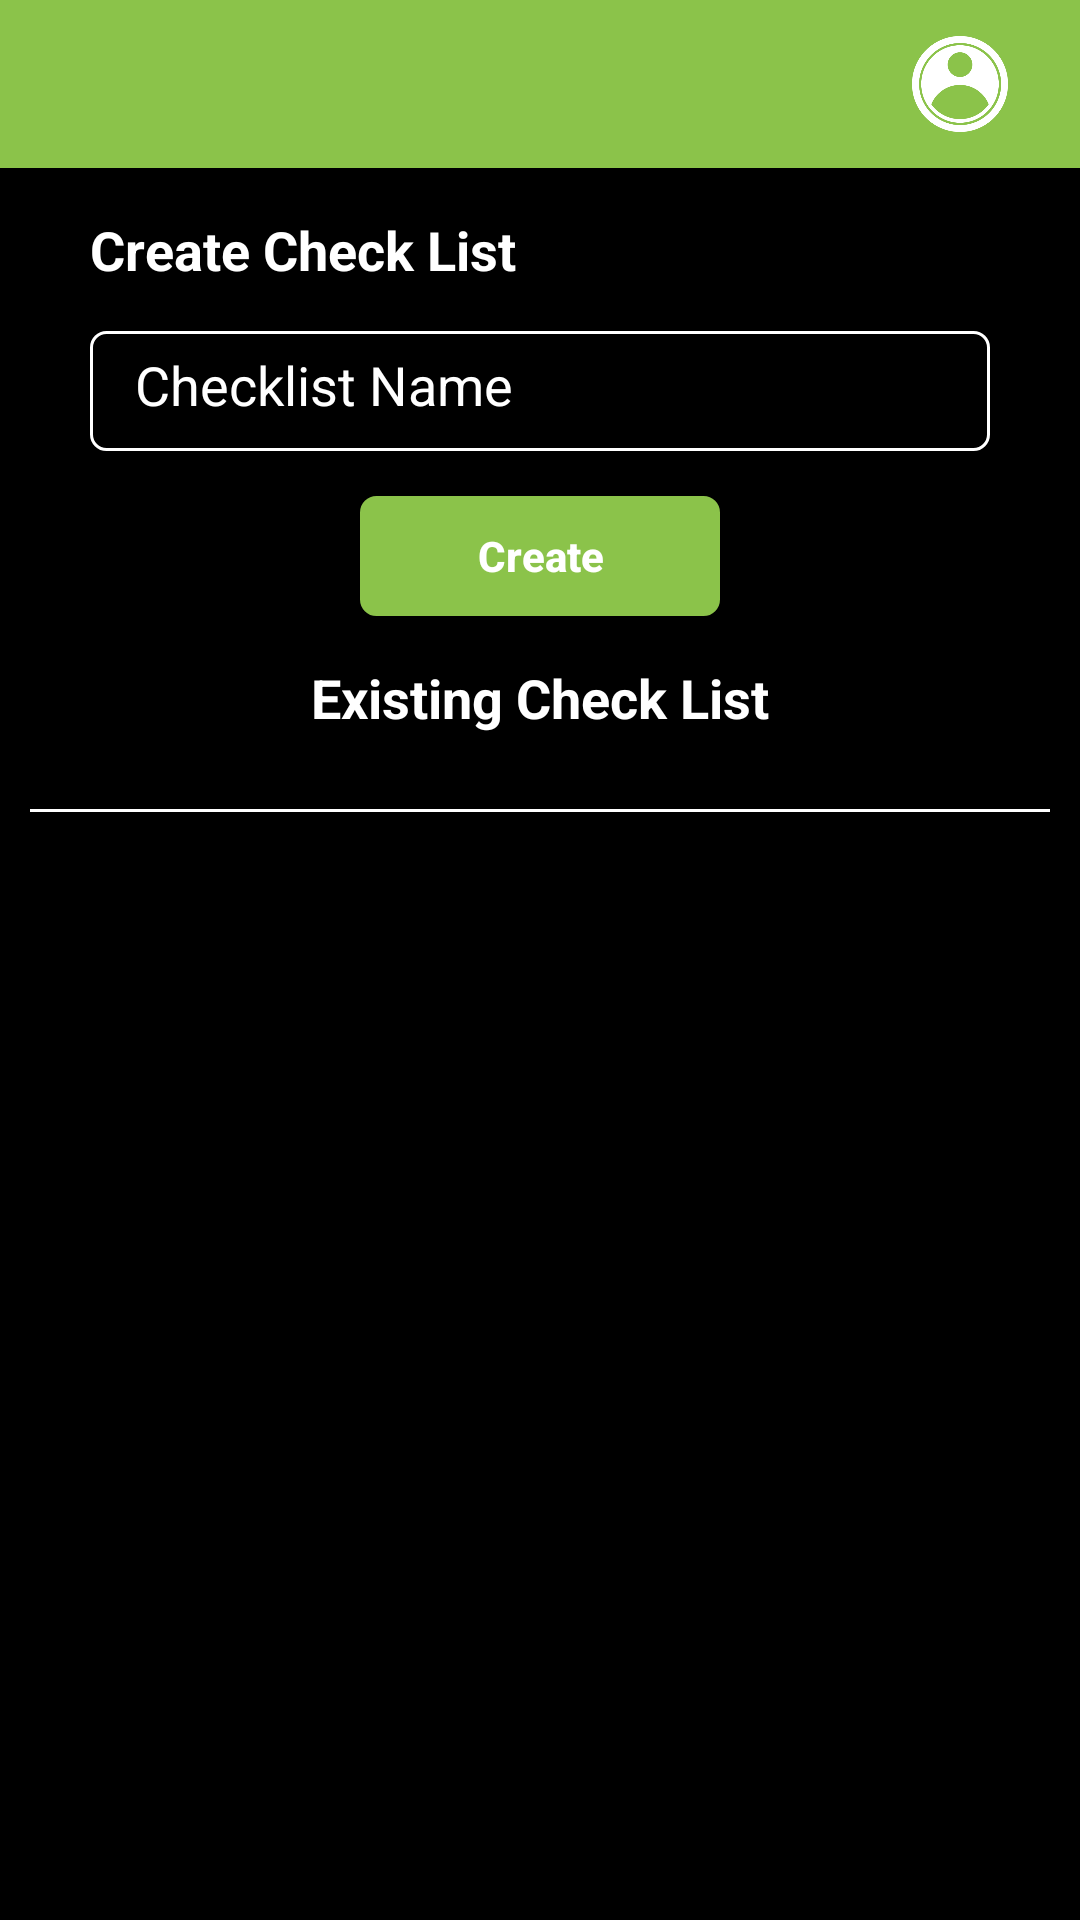

Icon bounding boxes for this 1080px x 1920px phone screenshot, format {"x1": x1, "y1": y1, "x2": x2, "y2": y2}:
userima: {"x1": 912, "y1": 36, "x2": 1008, "y2": 132}
